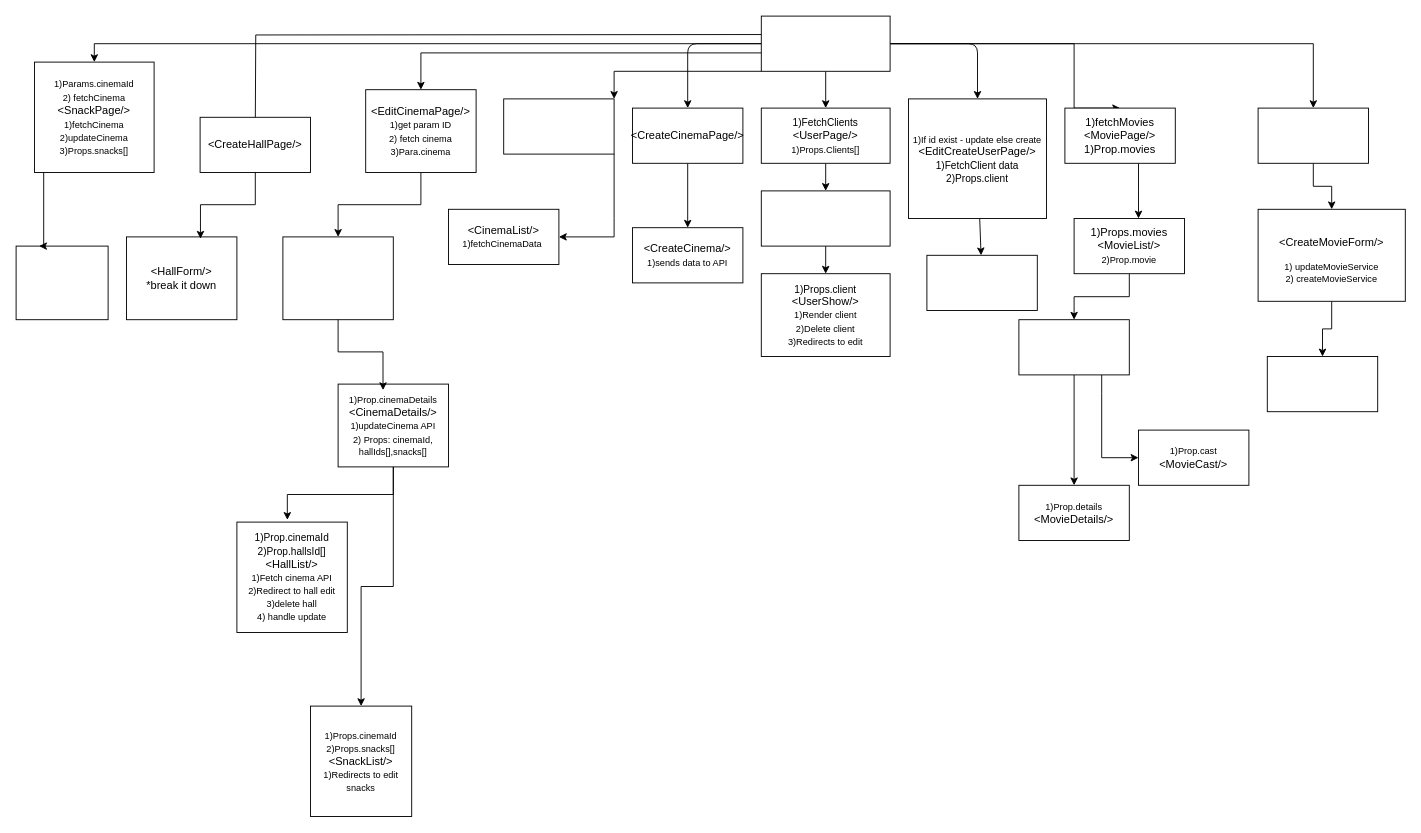
The diagram is 1421 pixels wide and 833 high, and some of its shapes have lost their labels. The box of each missing label's shape, as (x1, y1, x2, y2) in pixels:
1)Param.cinema <CinemaCard/> 1)heletes request to API 2)Prop.cinemaDetails: (282, 236, 393, 320)
1)Prop.movie <MovieCard/>: (1018, 319, 1129, 375)
1)Prop.snack[] <SnackForm/> 1)updates snacks and redirects: (15, 245, 108, 320)
1)Props.client <UserForm/> 1)sends data to API: (926, 254, 1037, 310)
1)Props.Clients[] <UserList/> 1)Props.client: (760, 190, 890, 246)
1)RHF- control 2)RHF- register <MovieCastForm/>: (1266, 356, 1378, 412)
<App/>: (760, 15, 890, 71)
<CinemasPage/>: (503, 98, 614, 154)
<CreateMoviePage/>: (1257, 107, 1368, 163)
